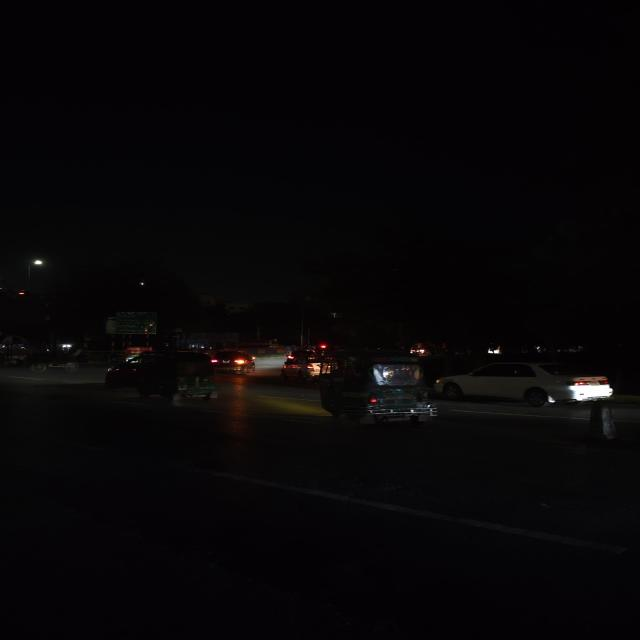car: (434, 355, 616, 411), (278, 347, 322, 381), (209, 347, 257, 375)
cng: (322, 349, 442, 427), (130, 349, 221, 406)
